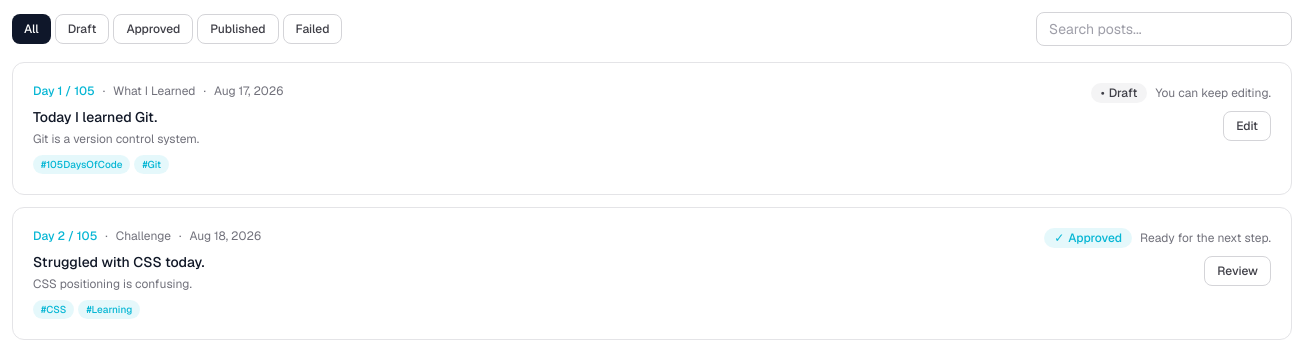
Test: PostList › filters by status when Approved button clicked
Step 1. Click the button "Approved" → {"x": 153, "y": 29}, box [113,14,193,44]
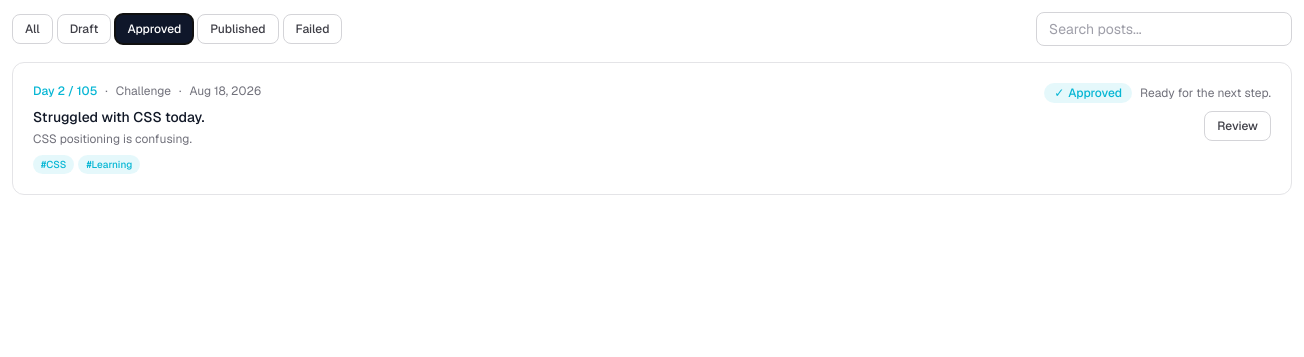
Expected: the heading "Struggled with CSS today." is shown, [33,108,204,126]
Result: the heading "Today I learned Git." is gone
